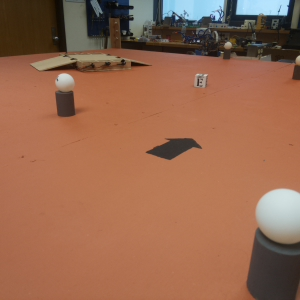blockE: (194, 72, 208, 92)
corner: (110, 18, 120, 52)
obstacle: (245, 186, 300, 295), (55, 73, 78, 120), (288, 56, 300, 85), (222, 42, 233, 63)
side: (78, 59, 132, 71)
slope: (30, 55, 76, 70), (131, 58, 153, 70)
start: (147, 133, 204, 165)
